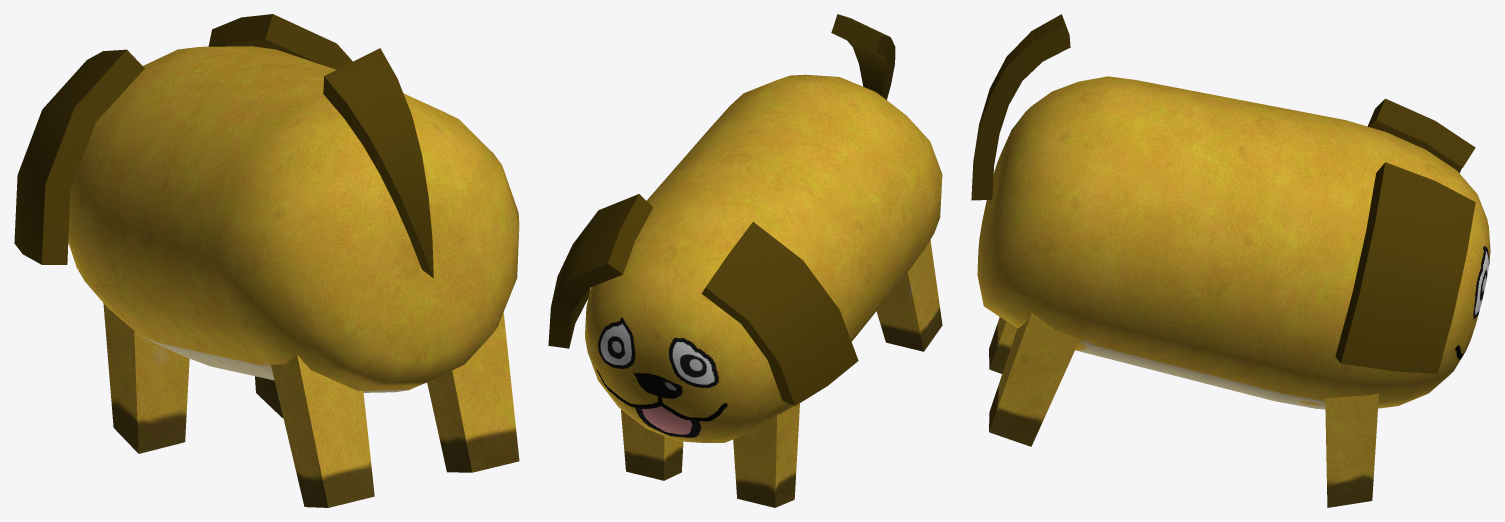
Rendered from jump3_test.FBX.
The picture shows the model from 3 angles, left to right: view 1: azimuth 30°, elevation 25°; view 2: azimuth 150°, elevation 25°; view 3: azimuth 270°, elevation 25°; orthographic projection. The views are drawn at different scales.
Parts seen in each view (by area): view 1: Object004; view 2: Object004; view 3: Object004.
Part boxes in pixels (x1,y1,x2,y2): Object004: (14,14,519,507); Object004: (548,14,942,507); Object004: (971,14,1490,507).
Bounding box in the file's own units: 31.62 × 40.09 × 42.97.
